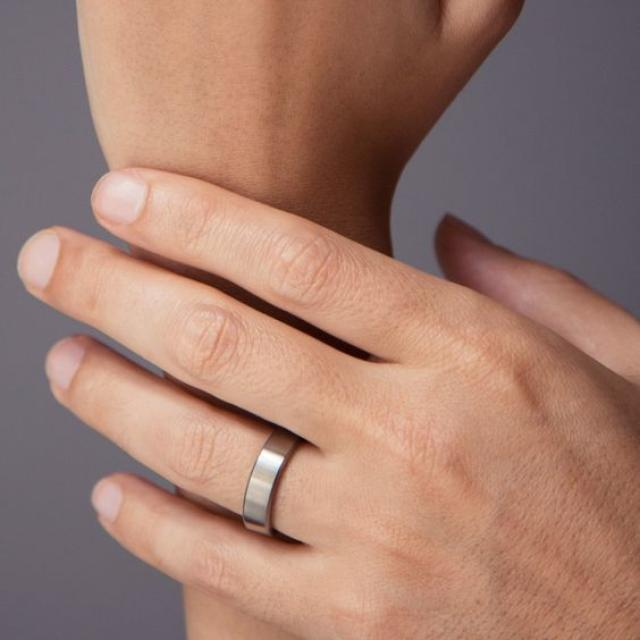Fingernail: (95, 176, 145, 225), (18, 233, 58, 291), (46, 340, 83, 389), (92, 482, 121, 523)
